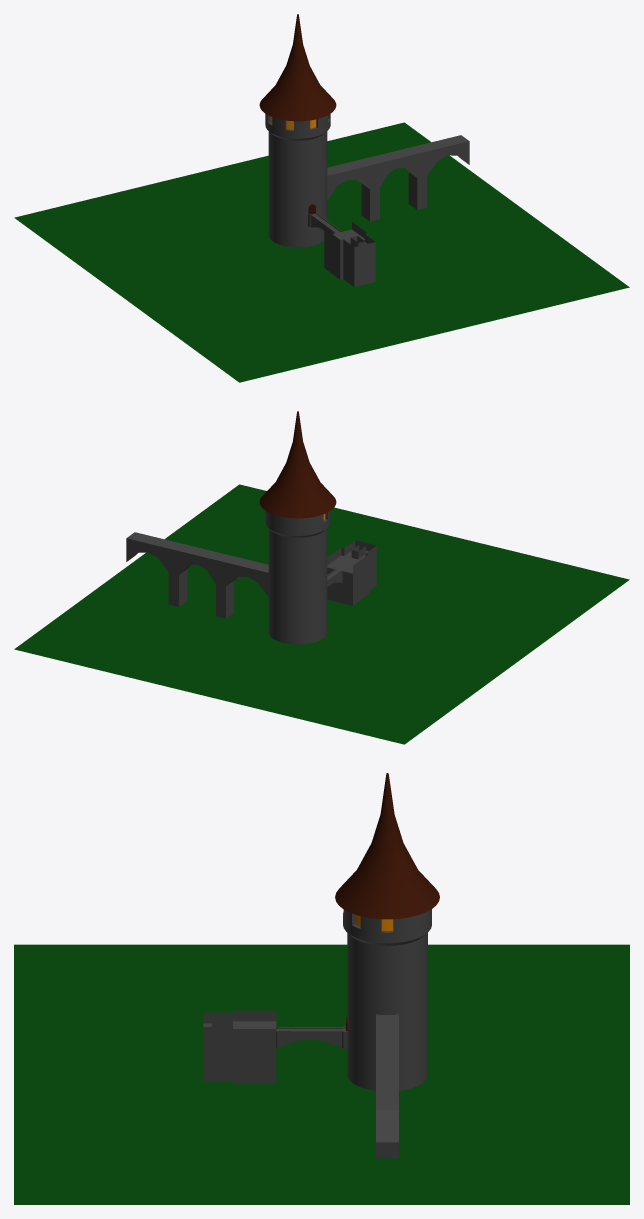
The model's file is level_hub.glb.
3 views of the same model, one above another, from view 1: azimuth 30°, elevation 25°; view 2: azimuth 150°, elevation 25°; view 3: azimuth 270°, elevation 25° (orthographic). The views are drawn at different scales.
Parts seen in each view (by area): view 1: background_plane, tower_mesh.001, playable_area_mesh-col.001; view 2: background_plane, tower_mesh.001, playable_area_mesh-col.001; view 3: background_plane, tower_mesh.001, playable_area_mesh-col.001.
Boxes of the visible parts, box(x1,y1,x2,y2) form: background_plane: box(14, 122, 629, 382); tower_mesh.001: box(259, 14, 469, 247); playable_area_mesh-col.001: box(308, 204, 375, 286); background_plane: box(14, 484, 629, 744); tower_mesh.001: box(126, 411, 336, 644); playable_area_mesh-col.001: box(327, 540, 376, 605); background_plane: box(14, 944, 629, 1204); tower_mesh.001: box(335, 773, 439, 1158); playable_area_mesh-col.001: box(203, 1010, 347, 1083).
Size of the model in its own units: 347 by 201 by 347.
